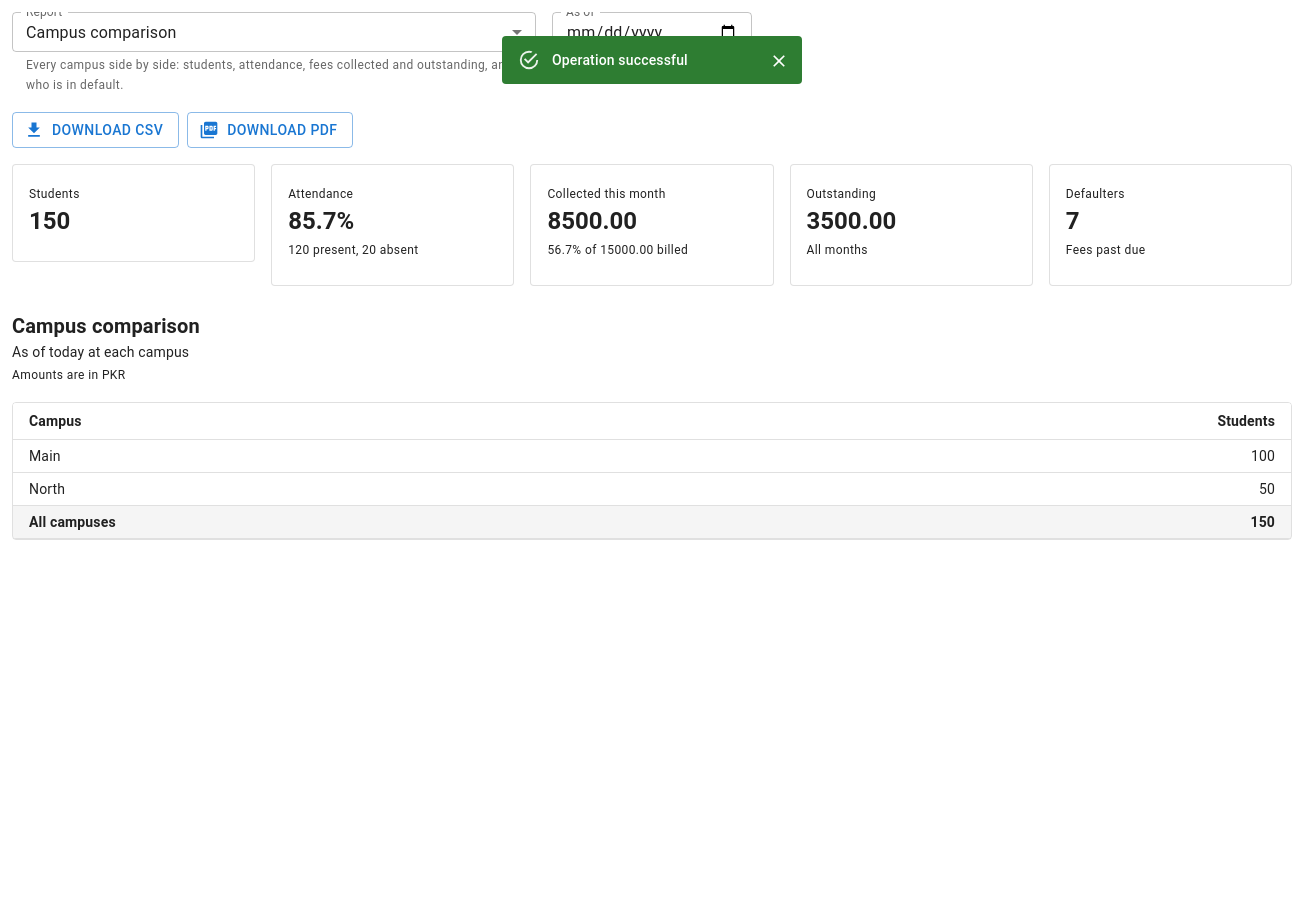
Test: ReportsManager › will not run the register until a class and a section are chosen
The width and height of the screenshot is (1304, 912).
Check: the heading "Campus comparison" is shown, box [12, 314, 200, 338]
Click the dropdown named "Report" at x=101, y=32, box [26, 22, 176, 42]
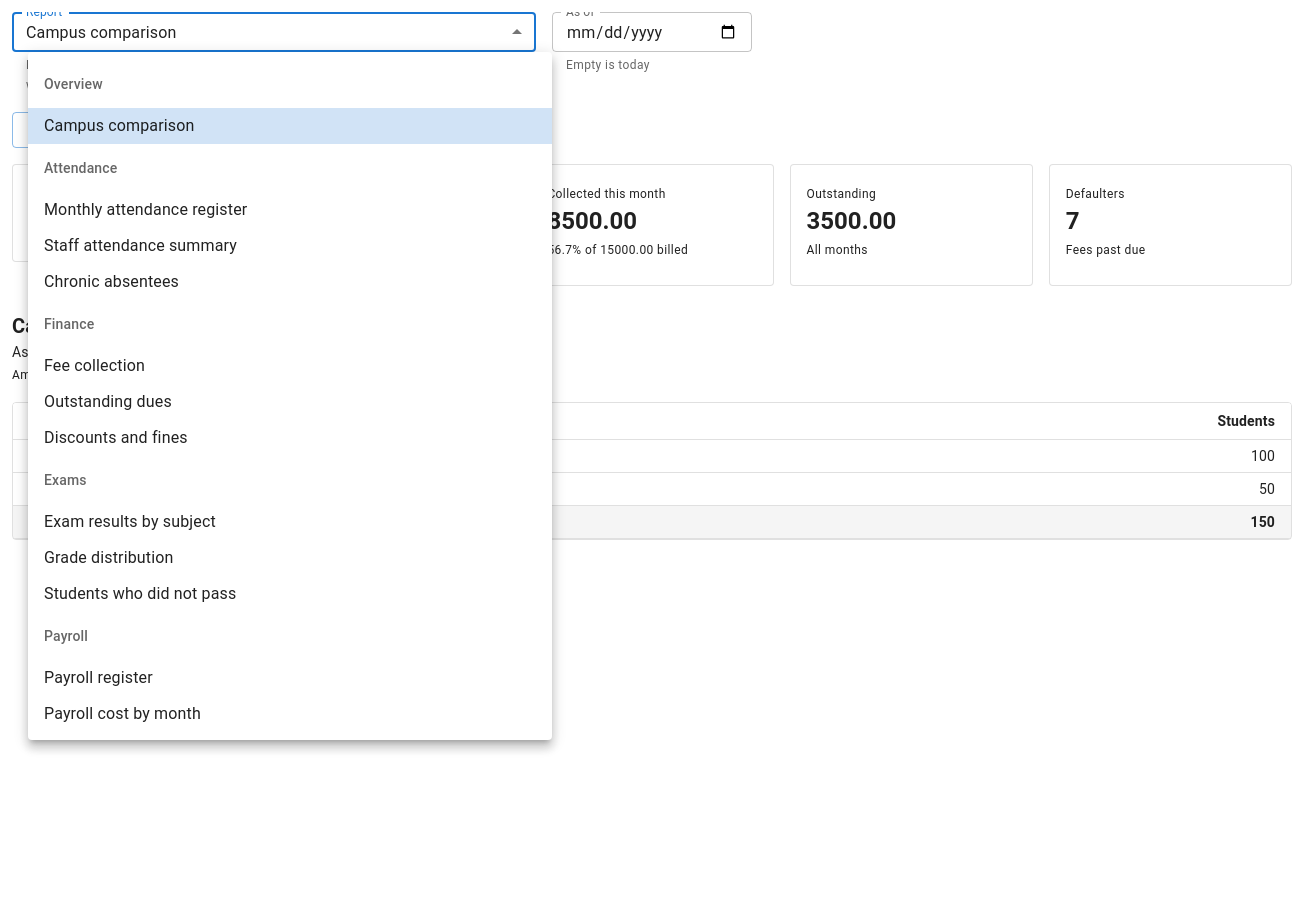
Click the option "Monthly attendance register" at x=146, y=210, box [44, 200, 247, 219]
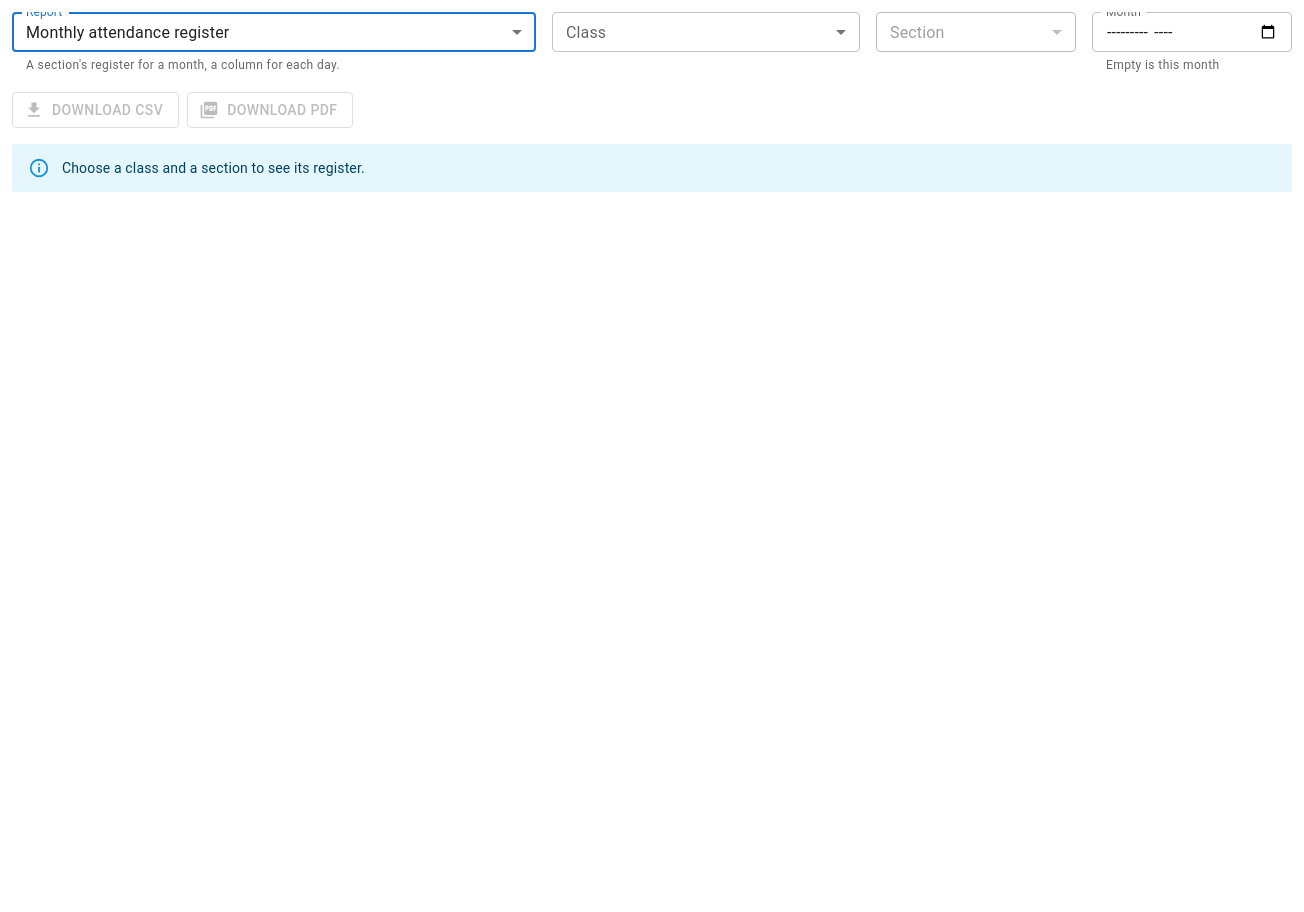
Check: the text "Choose a class and a section to see its register." is shown, box [62, 160, 365, 176]
Check: the button "Download CSV" is disabled, box [12, 92, 179, 128]
Click the 1st dropdown named "Class" at x=706, y=32, box [552, 12, 860, 52]
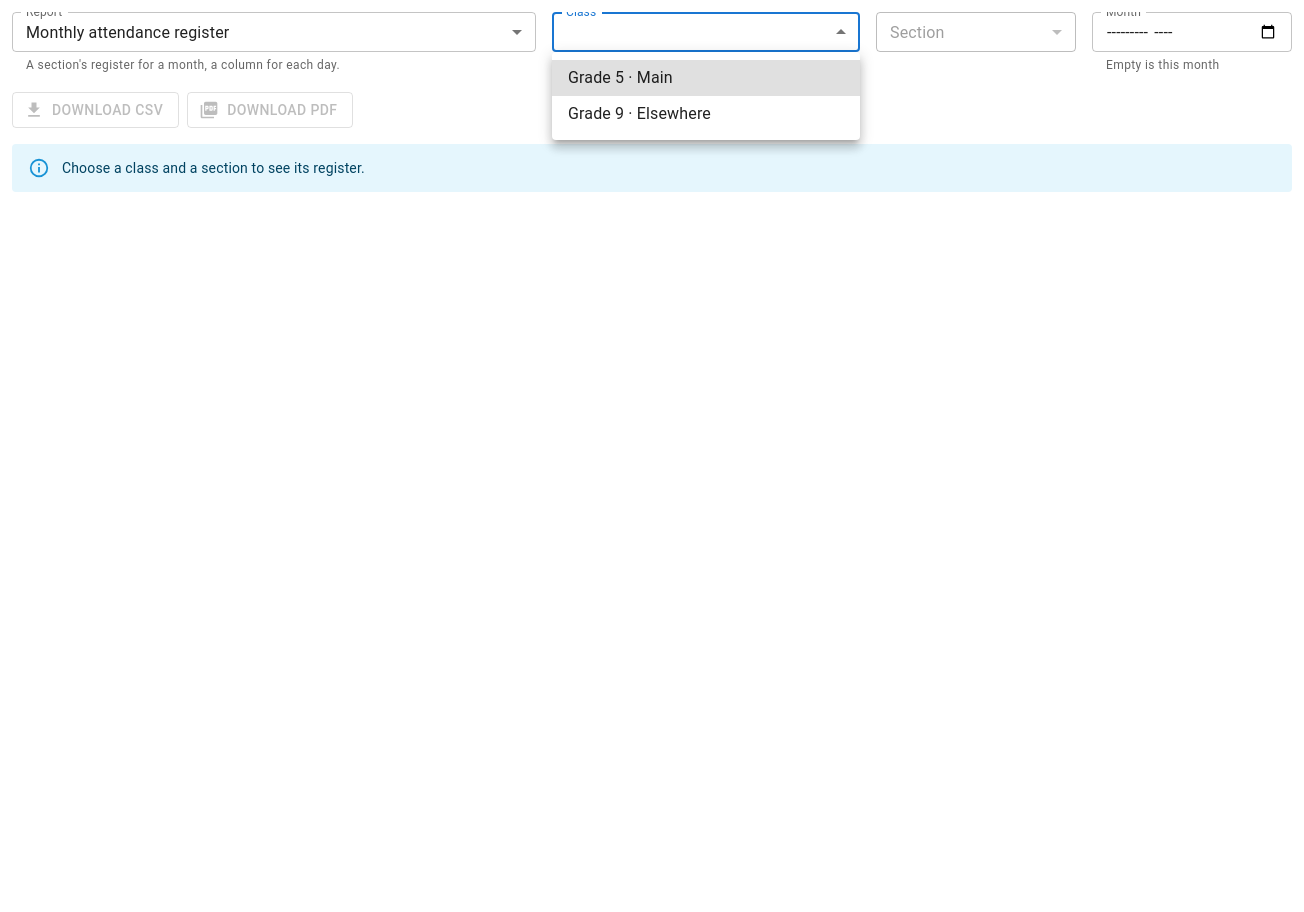
Click the option "Grade 5 · Main" at x=620, y=78, box [552, 60, 860, 96]
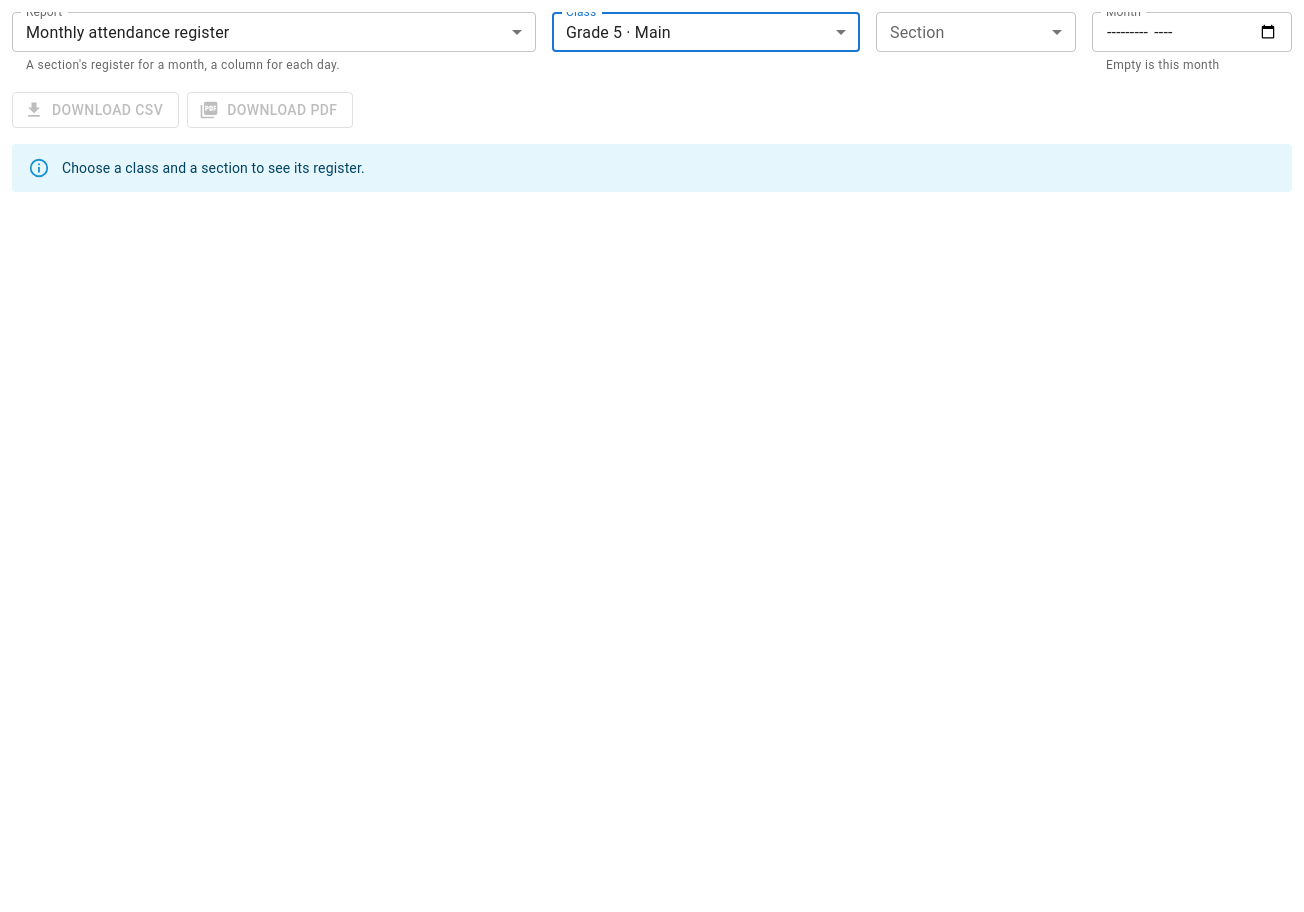
Click the dropdown named "Section" at x=976, y=32, box [876, 12, 1076, 52]
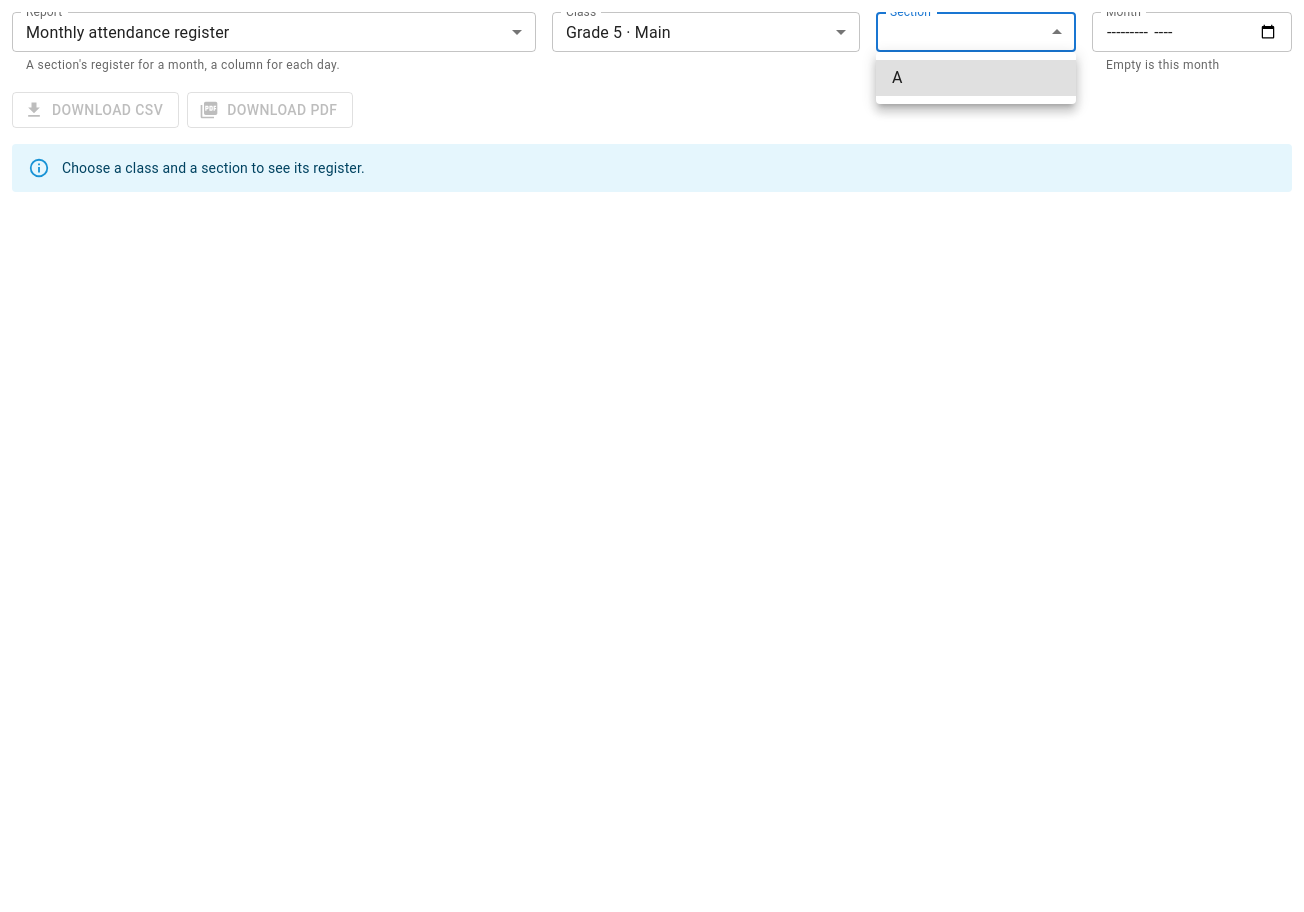
Click the option "A" at x=976, y=78, box [876, 60, 1076, 96]
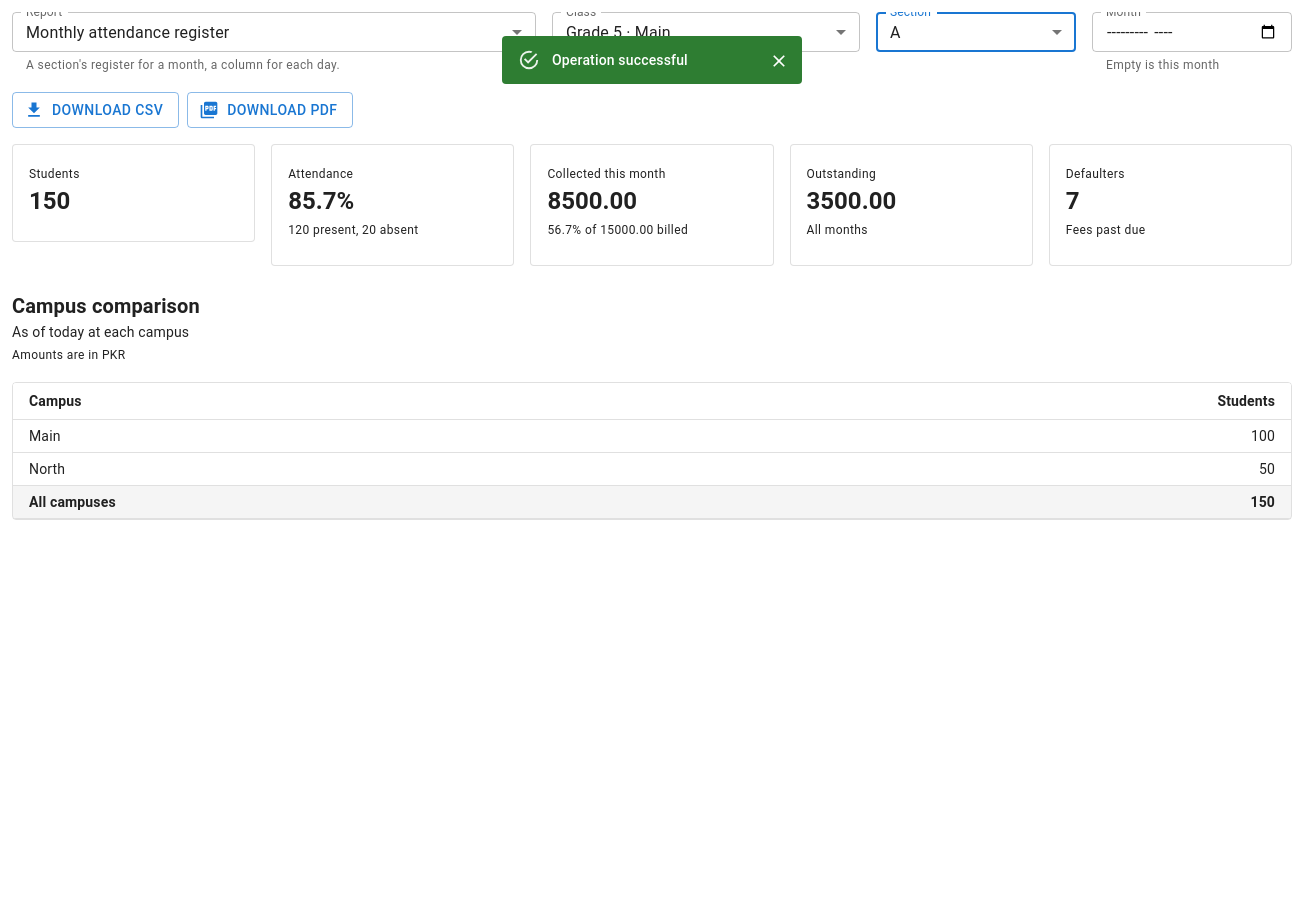
Check: the button "Download CSV" is enabled, box [12, 92, 179, 128]
